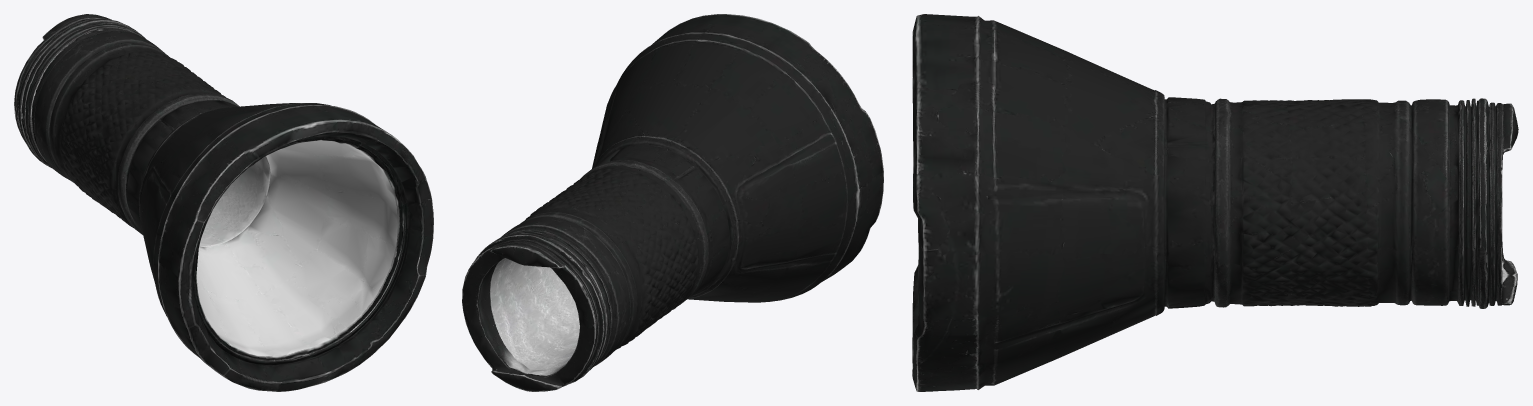
The model's file is cabeza.glb.
The picture shows the model from 3 angles, left to right: view 1: azimuth 30°, elevation 25°; view 2: azimuth 150°, elevation 25°; view 3: azimuth 270°, elevation 25°; orthographic projection. The views are drawn at different scales.
Bounding box in the file's own units: 1.2 × 1.17 × 1.9.
Materials: 1 (1 with a texture image).
